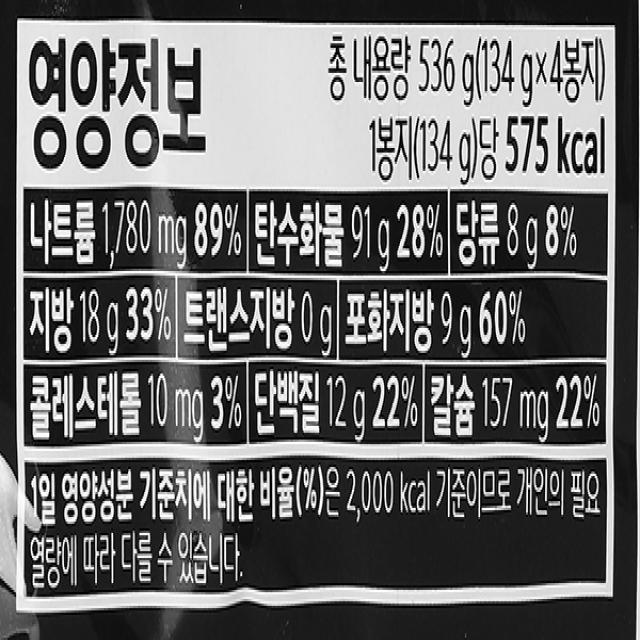Nutrition Label: (10, 9, 628, 603)
